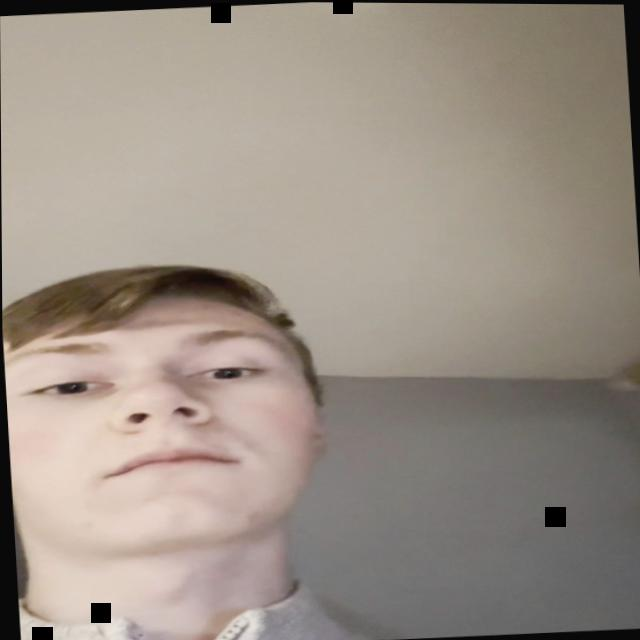NO-Mask: (2, 291, 317, 557)
